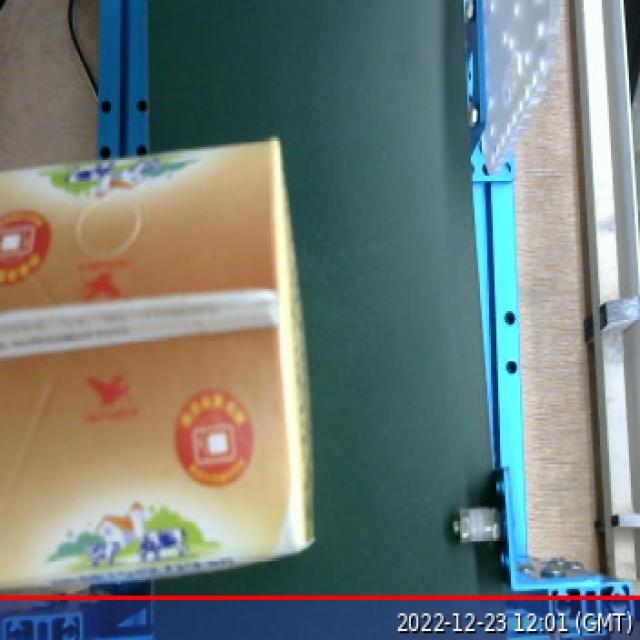non_white_jug: (0, 119, 335, 608)
